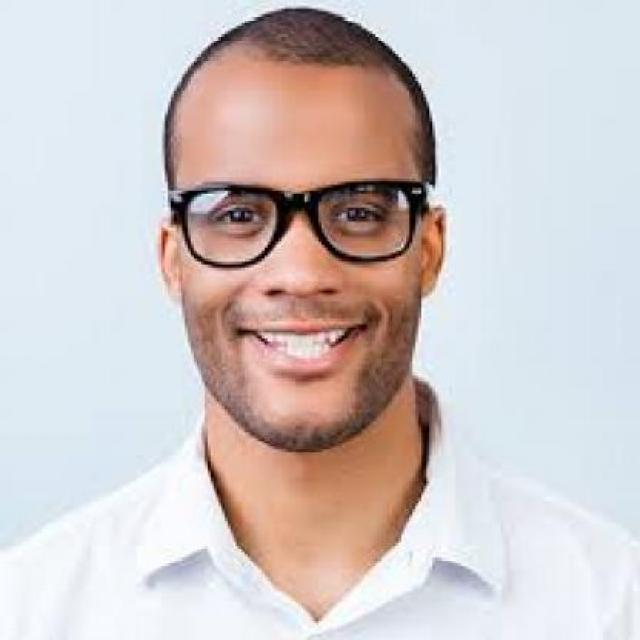glasses: (168, 171, 435, 272)
